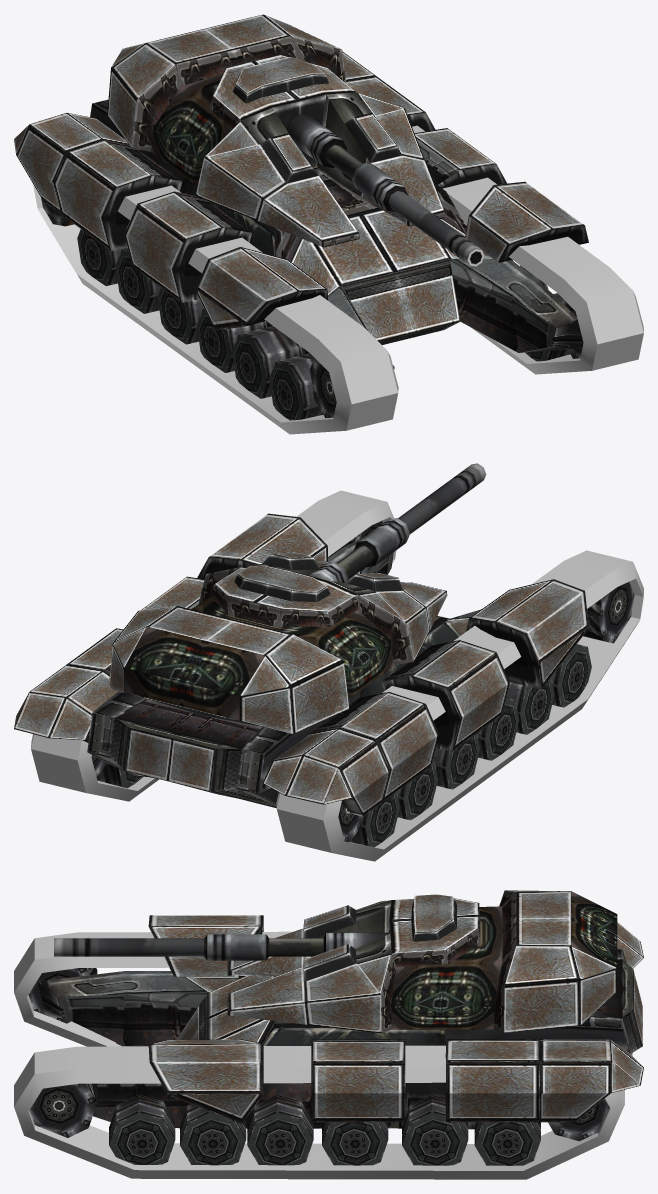
The model's file is tank-08_fbx.FBX.
The picture shows the model from 3 angles, top to bottom: view 1: azimuth 30°, elevation 25°; view 2: azimuth 150°, elevation 25°; view 3: azimuth 270°, elevation 25°; orthographic projection. The views are drawn at different scales.
Parts seen in each view (by area): view 1: body, tower, treads_R, treads_L, barrel, wheel_11, wheel_10, wheel_12, wheel_14, wheel_13, wheel_15, wheel_09; view 2: body, tower, treads_R, treads_L, barrel, wheel_09, wheel_10, wheel_11, wheel_13, wheel_12, wheel_15, wheel_14 (+2 smaller); view 3: body, tower, treads_L, barrel, treads_R, wheel_05, wheel_01, wheel_07, wheel_04, wheel_02, wheel_06, wheel_08 (+2 smaller).
Part boxes in pixels (x1,y1,x2,y2): body: [14, 51, 588, 369]; tower: [107, 14, 445, 247]; treads_R: [33, 184, 398, 434]; treads_L: [412, 125, 643, 374]; barrel: [287, 114, 484, 266]; wheel_11: [232, 326, 302, 398]; wheel_10: [269, 353, 322, 420]; wheel_12: [196, 308, 266, 372]; wheel_14: [115, 248, 160, 313]; wheel_13: [157, 288, 203, 344]; wheel_15: [77, 229, 125, 285]; wheel_09: [310, 358, 336, 418]; body: [14, 513, 588, 816]; tower: [109, 552, 447, 733]; treads_R: [276, 550, 643, 861]; treads_L: [31, 490, 396, 801]; barrel: [309, 463, 486, 583]; wheel_09: [583, 582, 634, 643]; wheel_10: [551, 644, 591, 707]; wheel_11: [506, 677, 554, 734]; wheel_13: [433, 733, 479, 789]; wheel_12: [477, 697, 519, 760]; wheel_15: [350, 792, 399, 847]; wheel_14: [397, 759, 437, 820]; body: [37, 915, 643, 1129]; tower: [227, 890, 617, 1033]; treads_L: [14, 1045, 624, 1179]; barrel: [54, 932, 388, 960]; treads_R: [14, 931, 292, 1046]; wheel_05: [247, 1094, 313, 1165]; wheel_01: [109, 1094, 175, 1164]; wheel_07: [402, 1094, 468, 1165]; wheel_04: [180, 1104, 246, 1165]; wheel_02: [29, 1083, 97, 1137]; wheel_06: [322, 1122, 388, 1165]; wheel_08: [474, 1122, 540, 1165].
Size of the model in its own units: 8.01 by 4.77 by 13.36.
